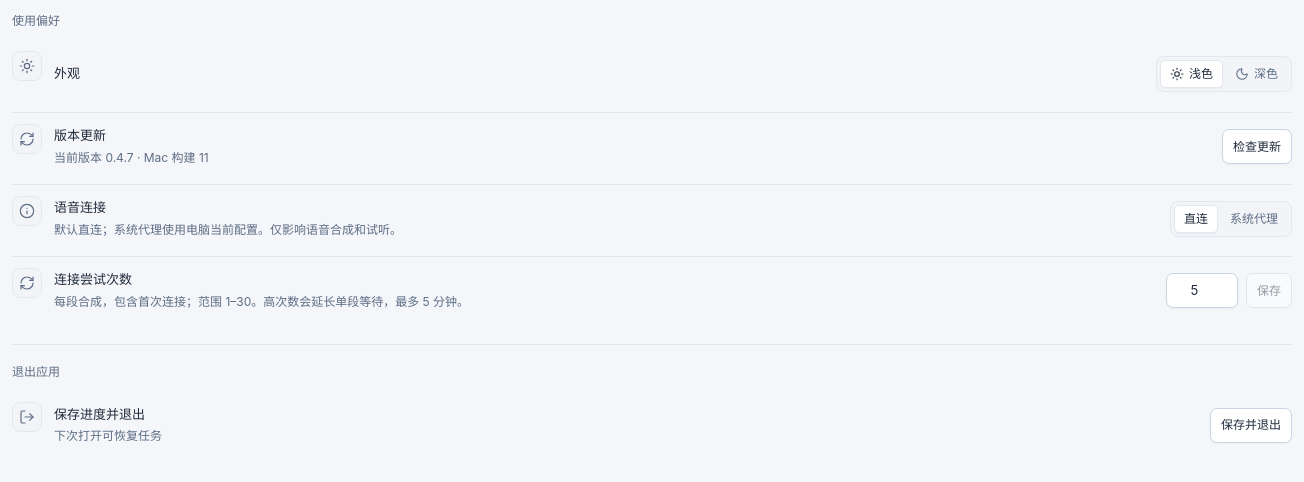
rejects an out-of-range value without sending it to the server
The width and height of the screenshot is (1304, 482).
Replace the text in the number field labelled "连接尝试次数" with "31" at point(1202, 290), box [1166, 273, 1238, 308]
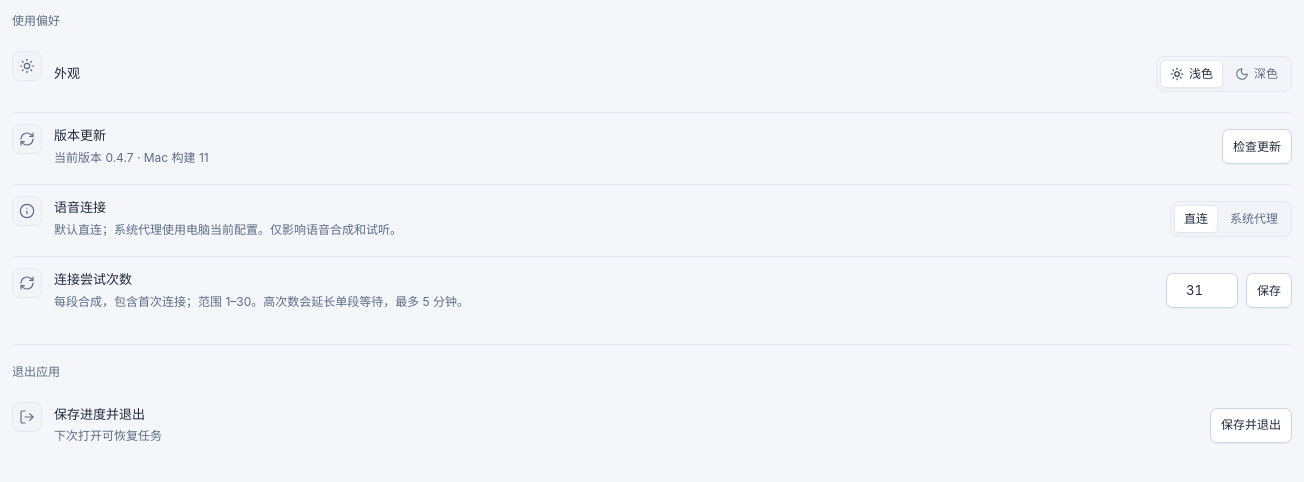
Submit the form "连接尝试次数", box [12, 256, 1292, 324]
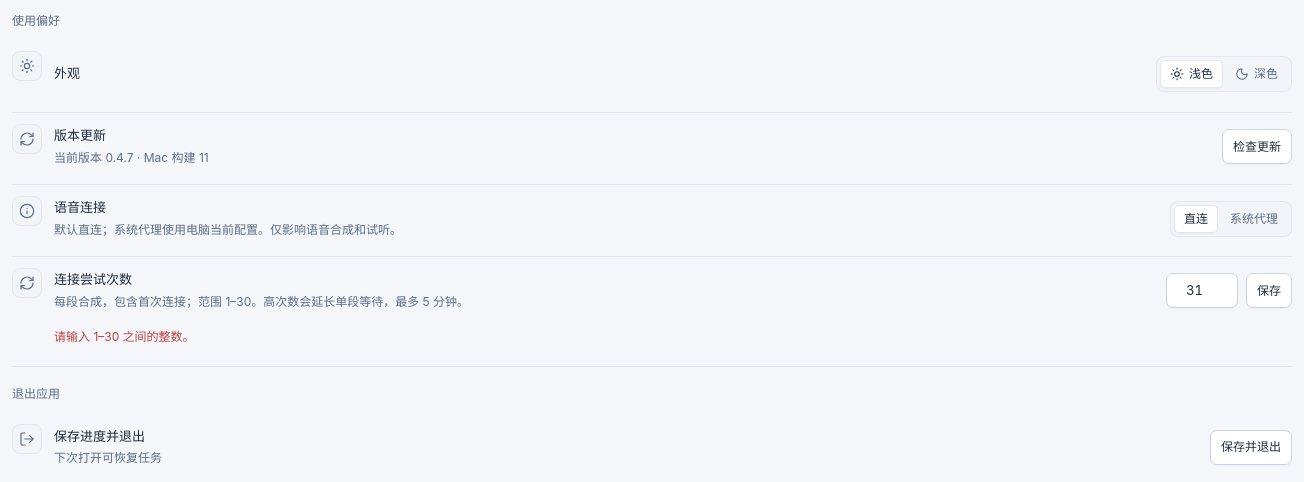
Check: the message reads "请输入 1–30 之间的整数。", box [54, 329, 195, 344]
